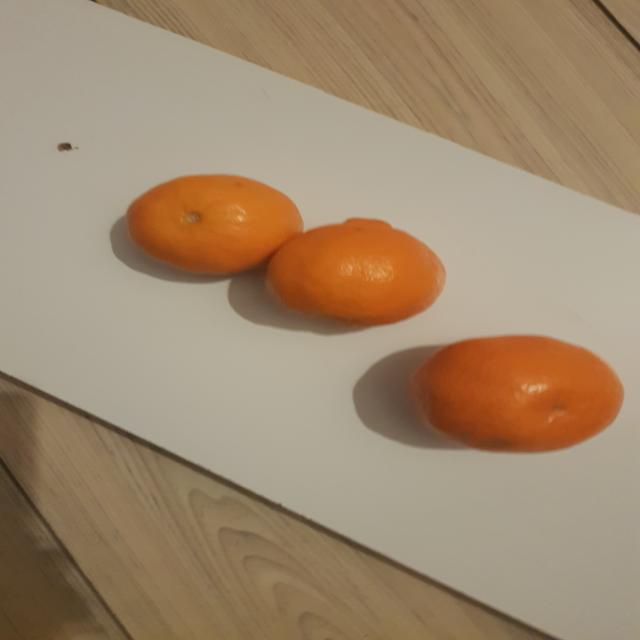Orange: (409, 335, 626, 456), (265, 218, 448, 328), (125, 174, 304, 275)
